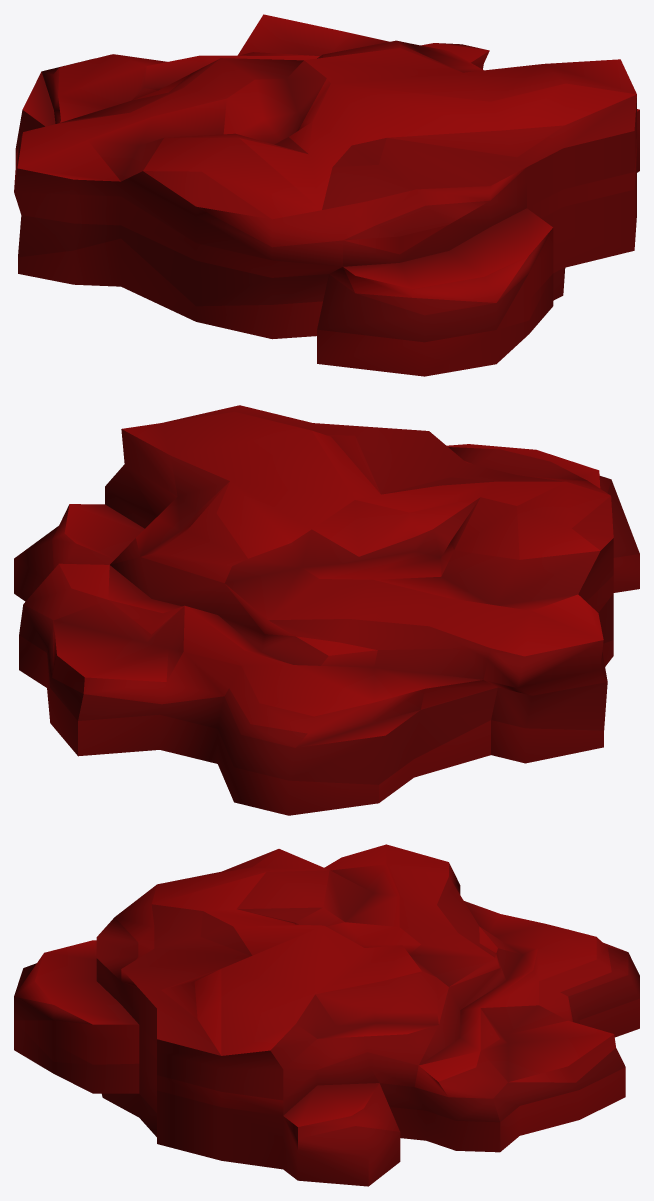
Rendered from geology-rocks-rockflatlayered_v6.fbx.
3 views of the same model, one above another, from view 1: azimuth 30°, elevation 25°; view 2: azimuth 150°, elevation 25°; view 3: azimuth 270°, elevation 25° (orthographic). The views are drawn at different scales.
Visible parts, largest first — view 1: RockFlatLayered_v6; view 2: RockFlatLayered_v6; view 3: RockFlatLayered_v6.
Boxes of the visible parts, <box> form: RockFlatLayered_v6: <box>14,14,639,376</box>; RockFlatLayered_v6: <box>14,405,639,815</box>; RockFlatLayered_v6: <box>14,844,639,1186</box>.
Bounding box in the file's own units: 8.45 × 2.42 × 8.94.
